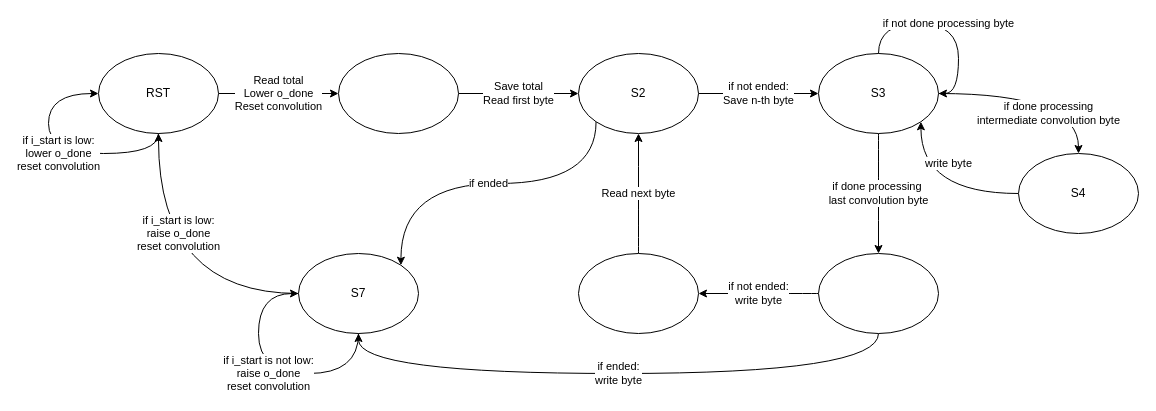
This 1156x411 diagram has some shape labels left out. Here are the shapes that lost their labels. From the top down, the box of each, then its label:
(338, 52, 458, 134): S1
(578, 252, 698, 334): S6
(818, 252, 938, 334): S5
